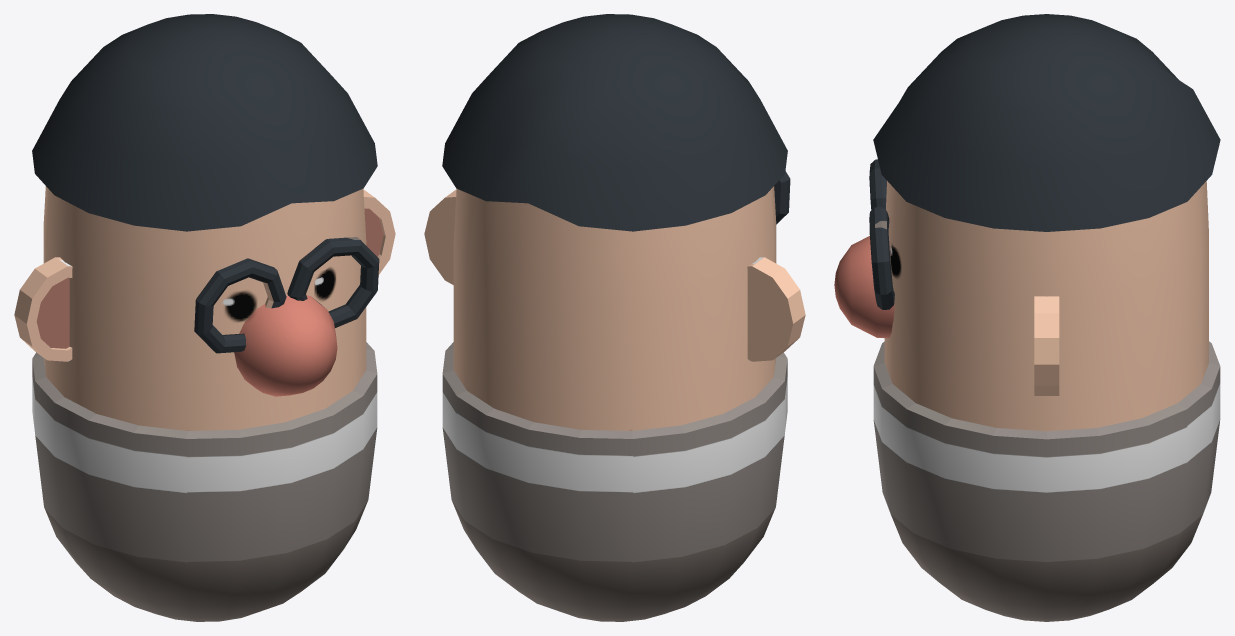
The model's file is orangkacamta.fbx.
3 views of the same model, side by side, from view 1: azimuth 30°, elevation 25°; view 2: azimuth 150°, elevation 25°; view 3: azimuth 270°, elevation 25° (orthographic).
Parts seen in each view (by area): view 1: kacamata; view 2: kacamata; view 3: kacamata.
Part boxes in pixels (x1,y1,x2,y2): kacamata: (14, 14, 395, 621); kacamata: (424, 14, 805, 621); kacamata: (834, 14, 1220, 621).
Bounding box in the file's own units: 153 × 228 × 138.
Materials: 1 (1 with a texture image).
